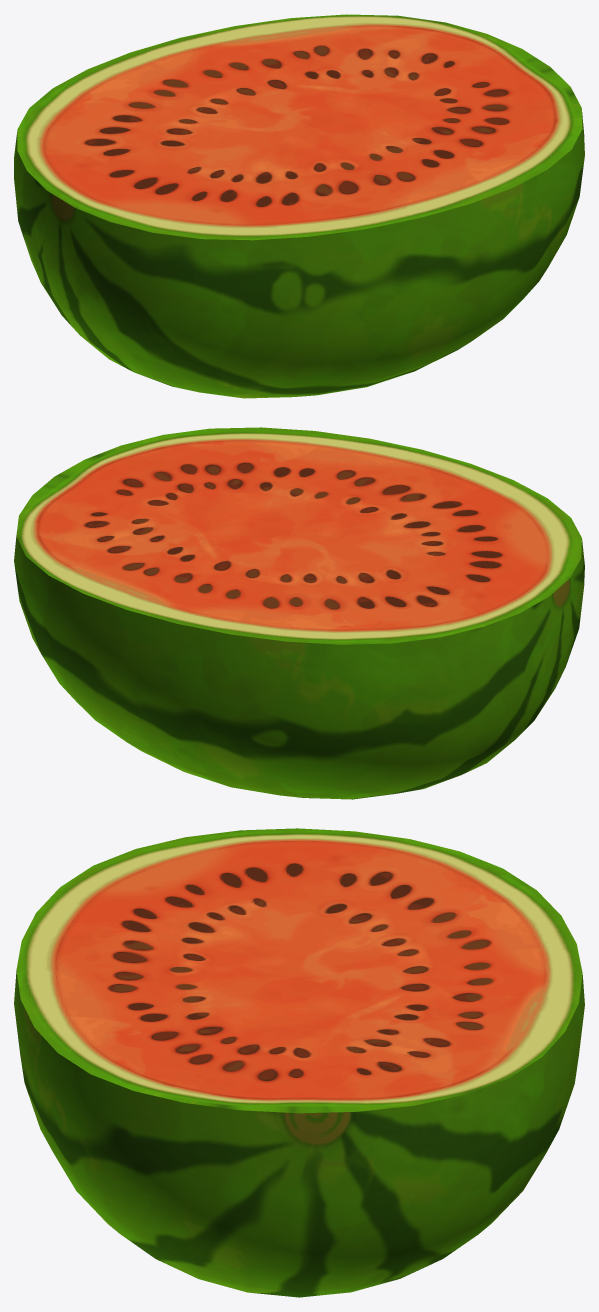
The model's file is SM_WatermelonCutBottom.fbx.
3 views of the same model, one above another, from view 1: azimuth 30°, elevation 25°; view 2: azimuth 150°, elevation 25°; view 3: azimuth 270°, elevation 25° (orthographic). The views are drawn at different scales.
Parts seen in each view (by area): view 1: SM_Watermelon.002; view 2: SM_Watermelon.002; view 3: SM_Watermelon.002.
Boxes of the visible parts, left/top/right/bottom form: SM_Watermelon.002: left=14, top=14, right=584, bottom=398; SM_Watermelon.002: left=14, top=427, right=584, bottom=799; SM_Watermelon.002: left=14, top=828, right=584, bottom=1297.
Size of the model in its own units: 38.78 by 17.32 by 32.56.
Materials: 1 (1 with a texture image).
